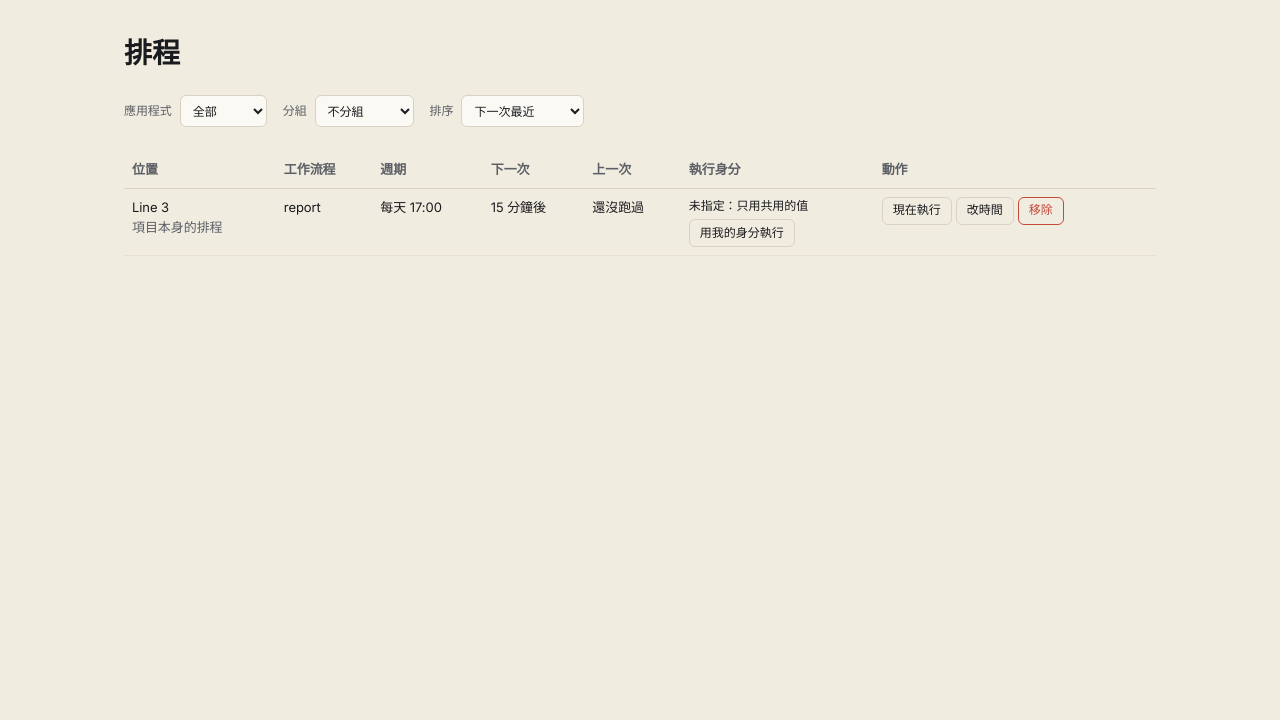
Test: SchedulesOverviewPage › moves a schedule to a new time
Click the button "改時間".
click(985, 210)  # box [956,196,1014,224]
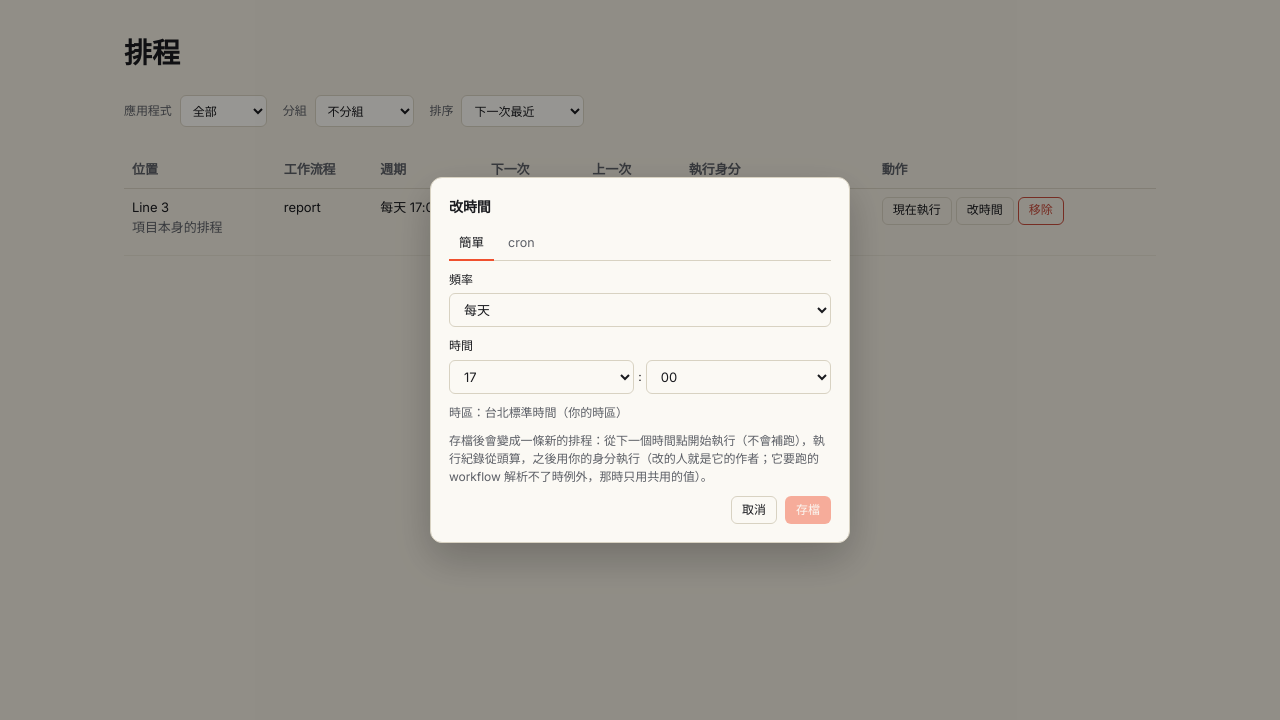
Result: the text "存檔後會變成一條新的排程：從下一個時間點開始執行（不會補跑），執行紀錄從頭算，之後用你的身分執行（改的人就是它的作者；它要跑的 workflow 解析不了時例外，那時只用共用的值）。" is shown at [449,433,825,484]
Select "10" in the dropdown named "時" at x=542, y=377, box [449,360,634,394]
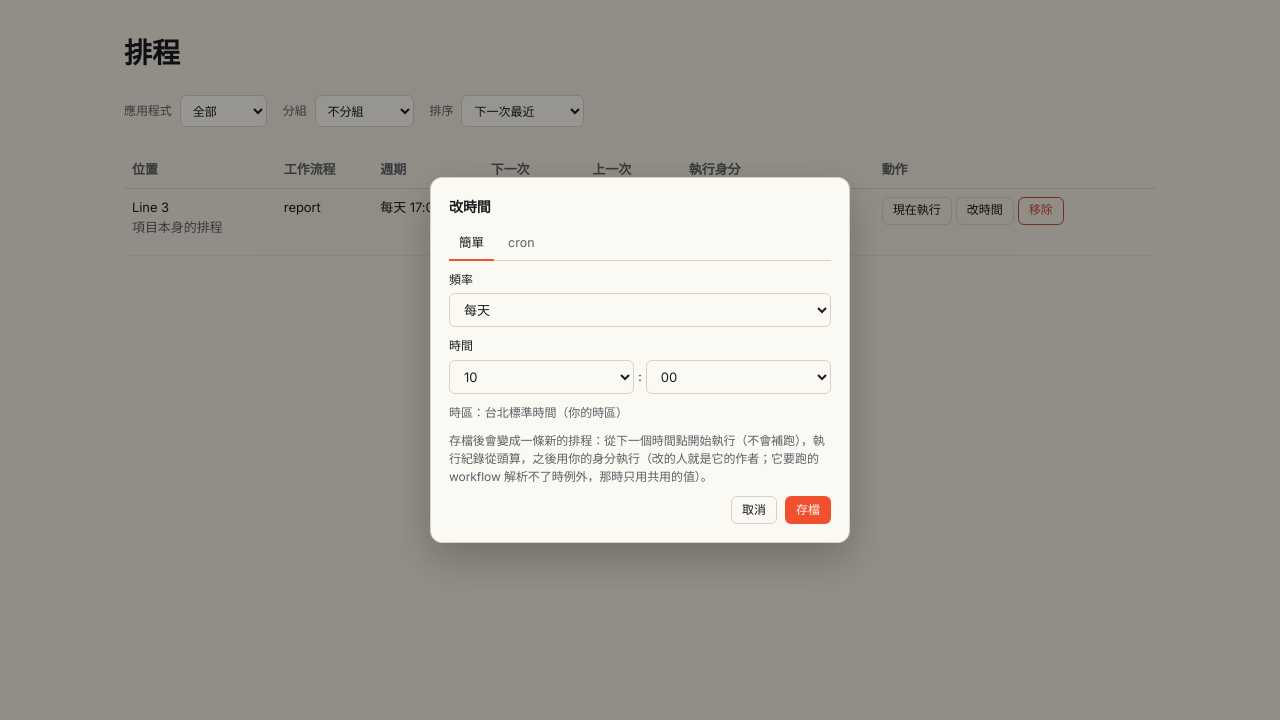
Select "30" in the dropdown named "分" at x=738, y=377, box [646,360,831,394]
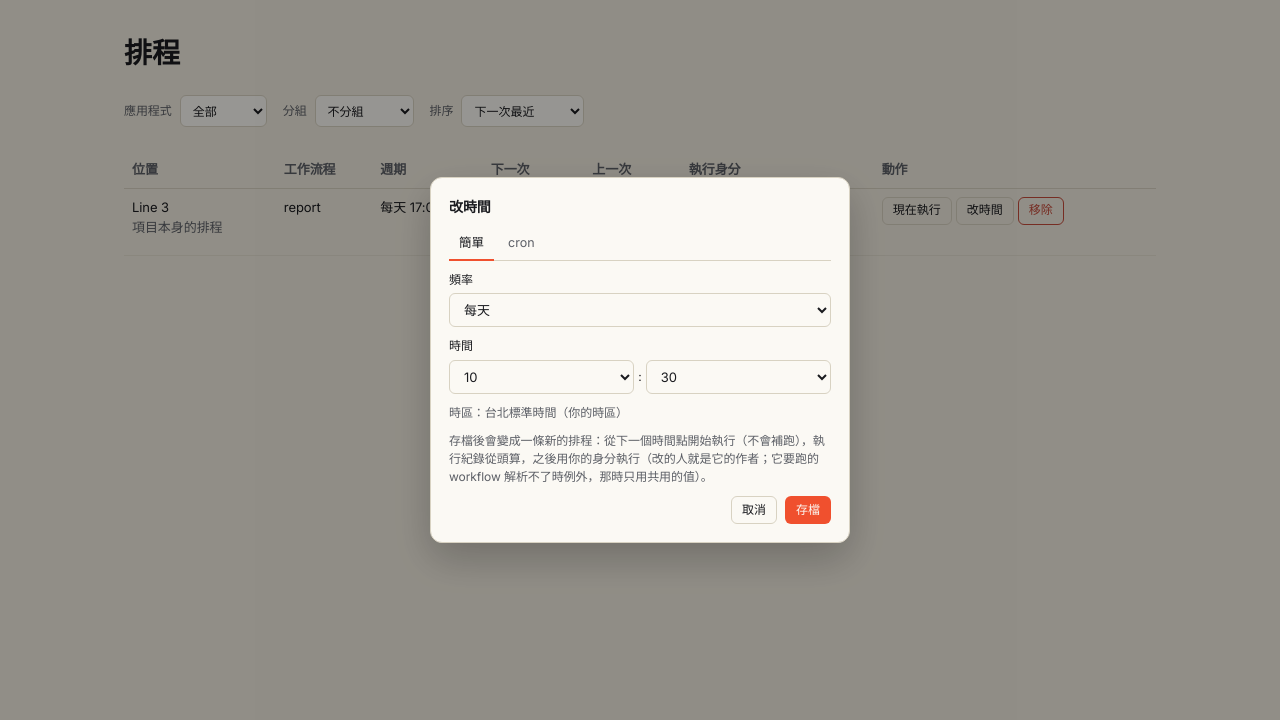
Click the button with test id "schedule-time-save".
click(808, 510)  # box [785,496,831,524]
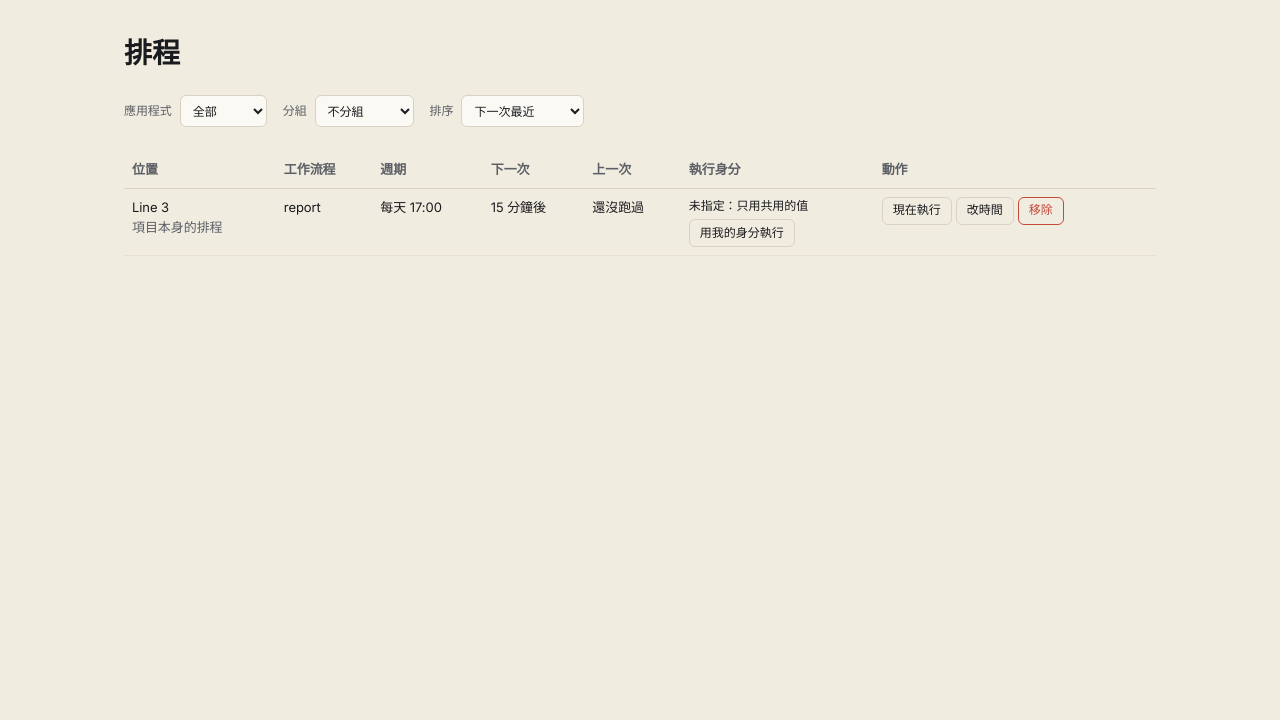
Result: the dialog with test id "schedule-time-modal" is gone
